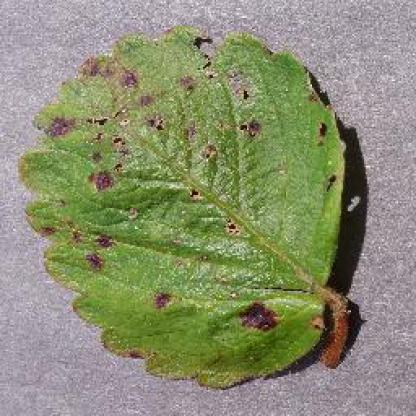leaf scorch: (13, 11, 383, 395)
